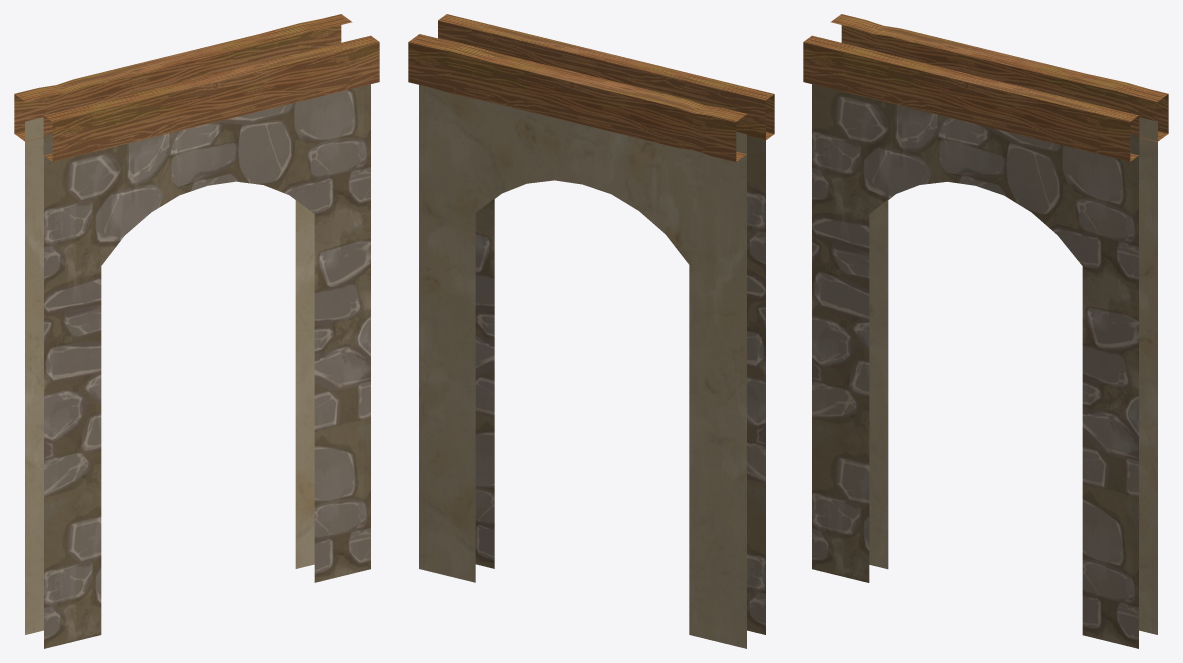
The model's file is Wall_UnevenBrick_Door_Round.glb.
The picture shows the model from 3 angles, left to right: view 1: azimuth 30°, elevation 25°; view 2: azimuth 150°, elevation 25°; view 3: azimuth 330°, elevation 25°; orthographic projection.
Visible parts, largest first — view 1: Wall_UnevenBrick_Door_Round; view 2: Wall_UnevenBrick_Door_Round; view 3: Wall_UnevenBrick_Door_Round.
Part boxes in pixels (<box>): Wall_UnevenBrick_Door_Round: <box>14,14,379,648</box>; Wall_UnevenBrick_Door_Round: <box>408,14,774,648</box>; Wall_UnevenBrick_Door_Round: <box>803,14,1168,648</box>.
Size of the model in its own units: 2 by 3.12 by 0.4065.
3 materials, 3 textured.
